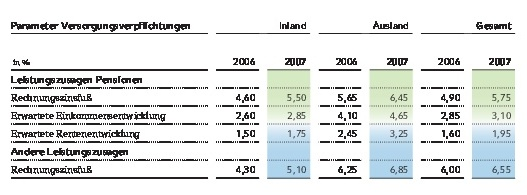table: (0, 0, 527, 195)
